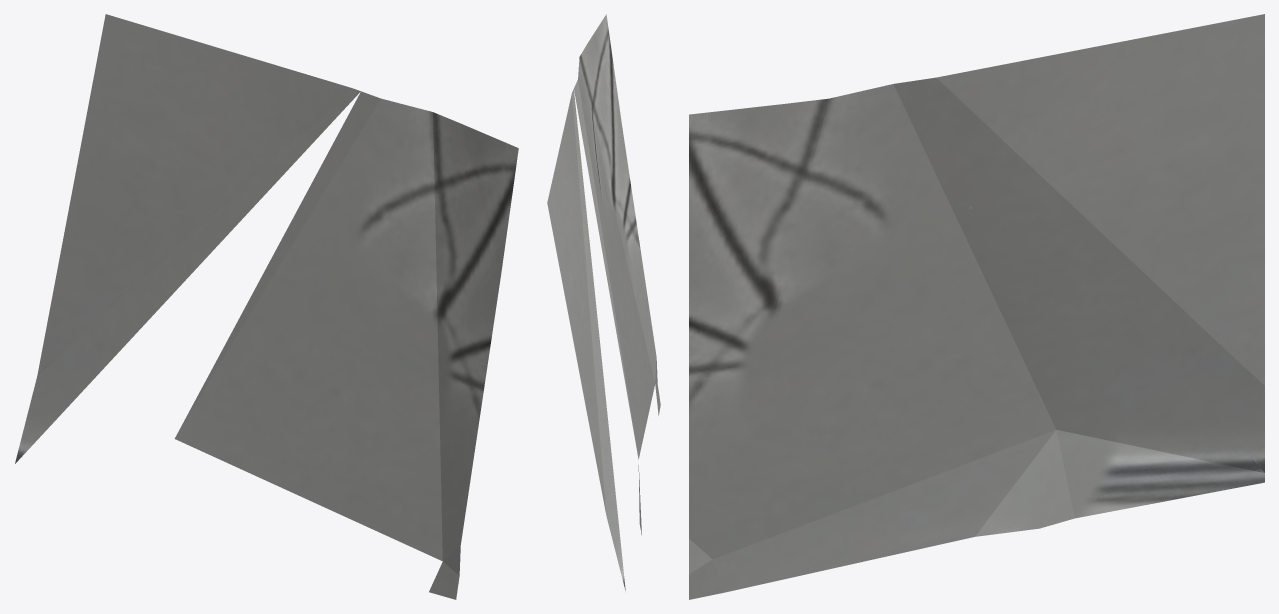
3 renders of one model, left to right at view 1: azimuth 30°, elevation 25°; view 2: azimuth 150°, elevation 25°; view 3: azimuth 270°, elevation 25°, orthographic. The views are drawn at different scales.
Bounding box in the file's own units: 0.5297 × 0.8373 × 0.8373.
Materials: 2 (2 with a texture image).
